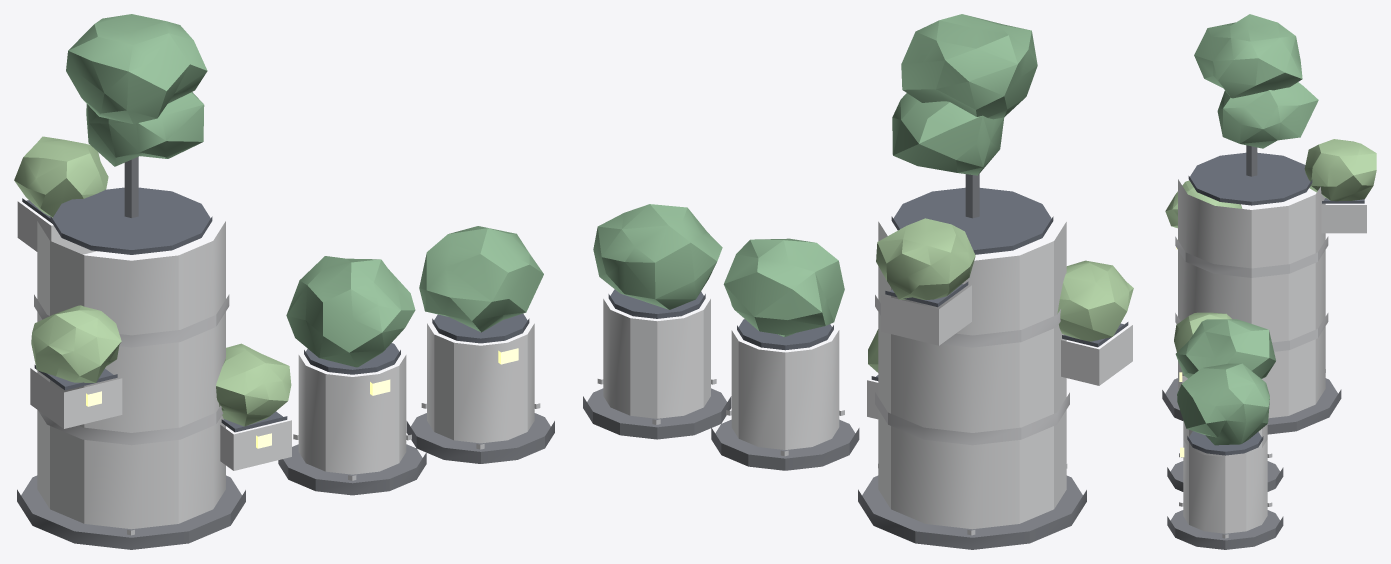
File: potted_plants_pocket_column.glb
3 renders of one model, left to right at view 1: azimuth 30°, elevation 25°; view 2: azimuth 150°, elevation 25°; view 3: azimuth 270°, elevation 25°, orthographic. The views are drawn at different scales.
Visible parts, largest first — view 1: Column, Foliage, Pots, Foliage_Light, Clamp_Rings, Grow_Lids, Pockets, Column_Bands, Pocket_Lids, Stems; view 2: Column, Foliage, Pots, Clamp_Rings, Foliage_Light, Grow_Lids, Pockets, Column_Bands, Pocket_Lids; view 3: Foliage, Column, Pots, Grow_Lids, Foliage_Light, Clamp_Rings, Column_Bands, Pockets, Stems.
Part boxes in pixels (x1,y1,x2,y2): Column: [37, 221, 225, 529]; Foliage: [66, 14, 543, 367]; Pots: [298, 323, 534, 474]; Foliage_Light: [14, 136, 291, 426]; Clamp_Rings: [17, 413, 554, 549]; Grow_Lids: [50, 187, 529, 374]; Pockets: [17, 201, 291, 470]; Column_Bands: [34, 294, 229, 445]; Pocket_Lids: [22, 198, 287, 432]; Stems: [124, 156, 138, 217]; Column: [878, 221, 1066, 529]; Foliage: [593, 14, 1037, 337]; Pots: [603, 299, 839, 449]; Clamp_Rings: [583, 388, 1086, 549]; Foliage_Light: [868, 218, 1133, 372]; Grow_Lids: [608, 187, 1053, 350]; Pockets: [867, 285, 1132, 419]; Column_Bands: [875, 295, 1069, 445]; Pocket_Lids: [871, 281, 1128, 380]; Foliage: [1175, 14, 1318, 445]; Column: [1178, 179, 1325, 418]; Pots: [1183, 420, 1267, 533]; Grow_Lids: [1187, 152, 1312, 455]; Foliage_Light: [1165, 139, 1376, 351]; Clamp_Rings: [1162, 378, 1341, 549]; Column_Bands: [1175, 236, 1328, 351]; Pockets: [1182, 205, 1366, 382]; Stems: [1246, 145, 1257, 176].
Bounding box in the file's own units: 0.8952 × 0.7772 × 0.4073.
